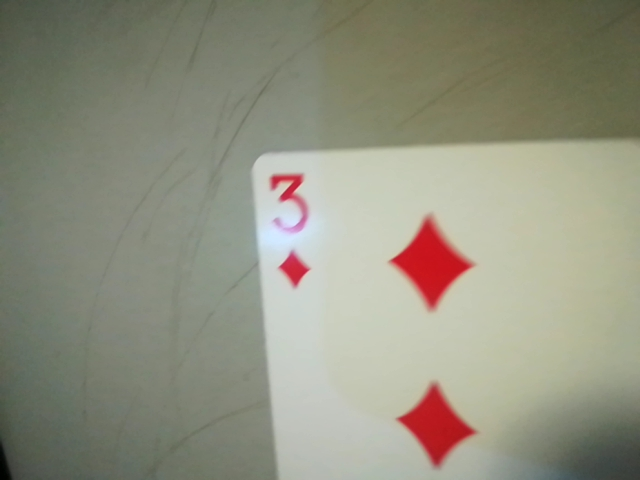fk 3: (253, 160, 328, 296)
